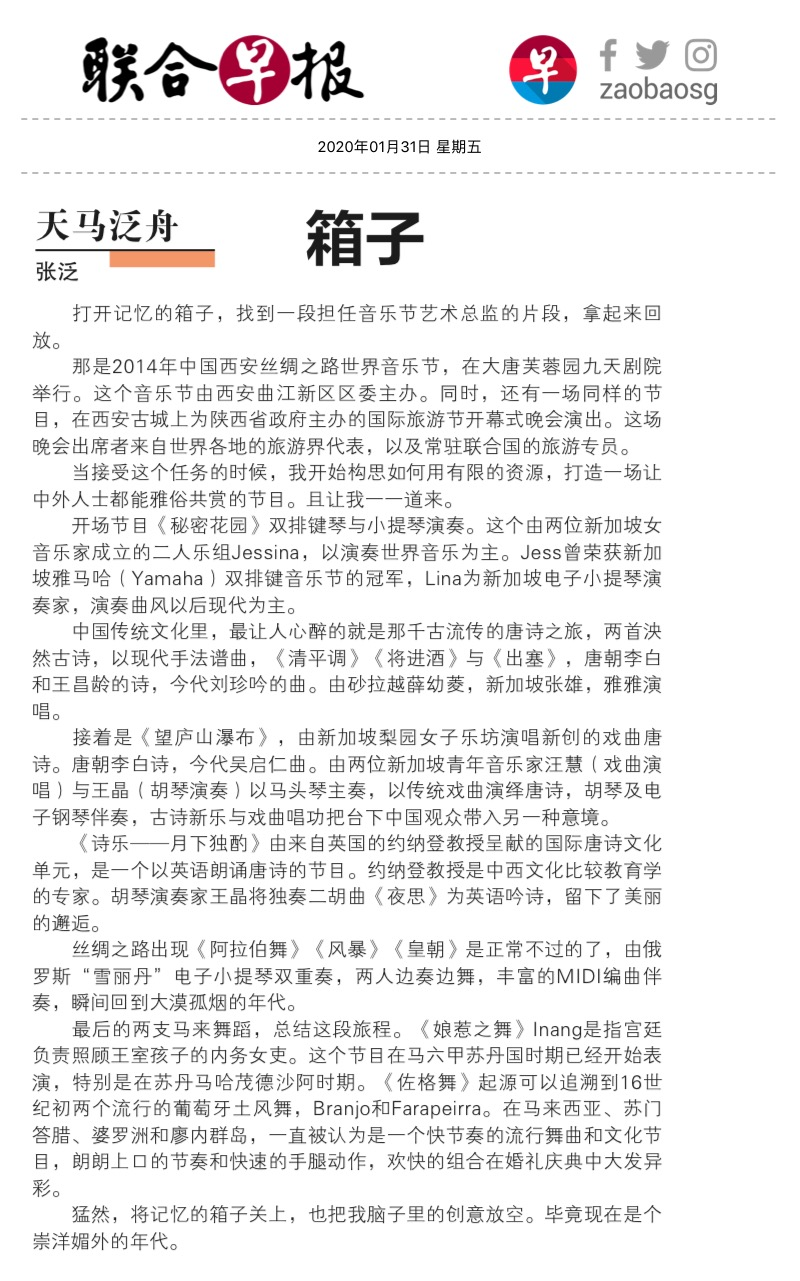heading_test: (300, 201, 432, 274)
